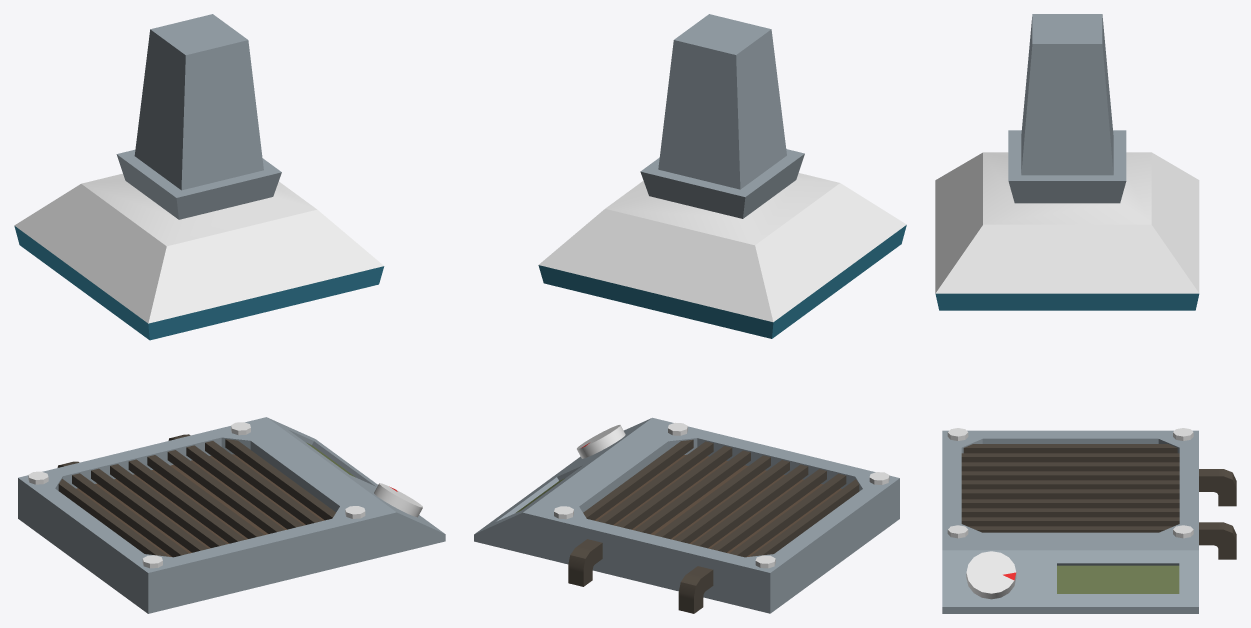
The model's file is 3D_workstation_Grill.fbx.
3 views of the same model, side by side, from view 1: azimuth 30°, elevation 25°; view 2: azimuth 150°, elevation 25°; view 3: azimuth 270°, elevation 25° (orthographic).
Visible parts, largest first — view 1: 3D_workstation_Grill_plate, 3D_workstation_Grill_Buton; view 2: 3D_workstation_Grill_plate, 3D_workstation_Grill_Buton; view 3: 3D_workstation_Grill_plate, 3D_workstation_Grill_Buton.
Boxes of the visible parts, bbox=[...] form: 3D_workstation_Grill_plate: bbox=[14, 14, 445, 613]; 3D_workstation_Grill_Buton: bbox=[374, 483, 422, 517]; 3D_workstation_Grill_plate: bbox=[474, 14, 906, 613]; 3D_workstation_Grill_Buton: bbox=[577, 425, 625, 458]; 3D_workstation_Grill_plate: bbox=[935, 14, 1236, 613]; 3D_workstation_Grill_Buton: bbox=[966, 551, 1016, 599].
Bounding box in the file's own units: 2.58 × 4.15 × 2.28.
